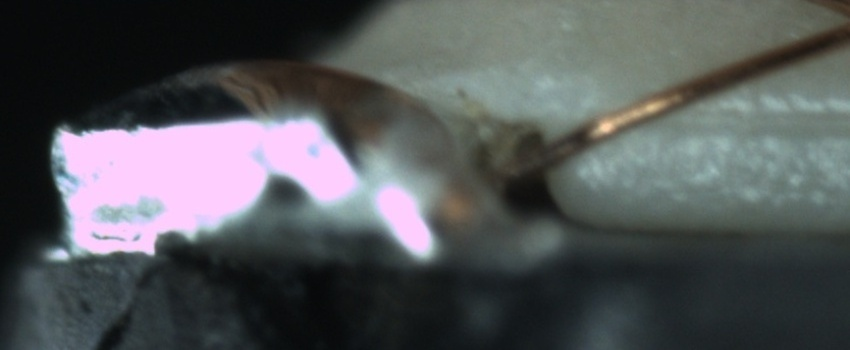DL: (643, 83, 845, 159)
